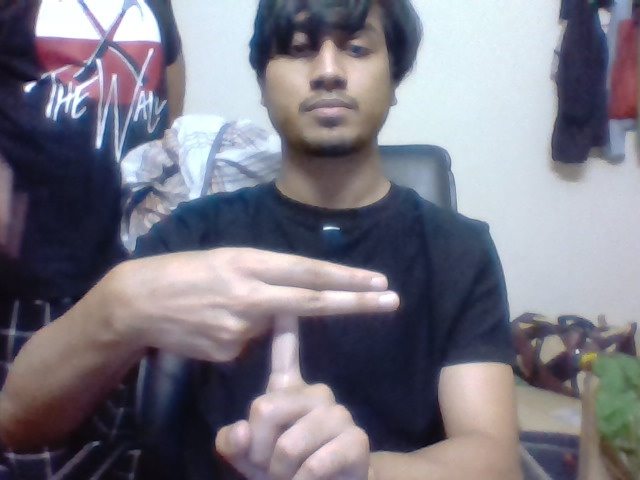F: (254, 252, 413, 383)
